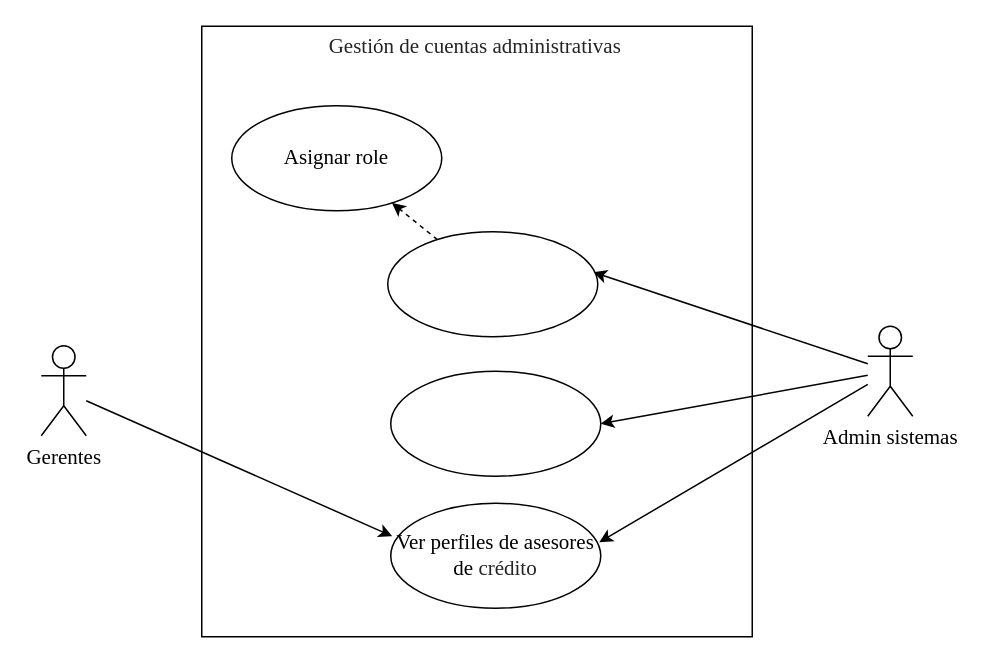
This 983x663 diagram has some shape labels left out. Here are the shapes that lost their labels. From the top down, the centre of each, then its label:
At point (492, 283): "Crear cuentas administrativas".
At point (495, 423): "Deshabilitar cuentas".
